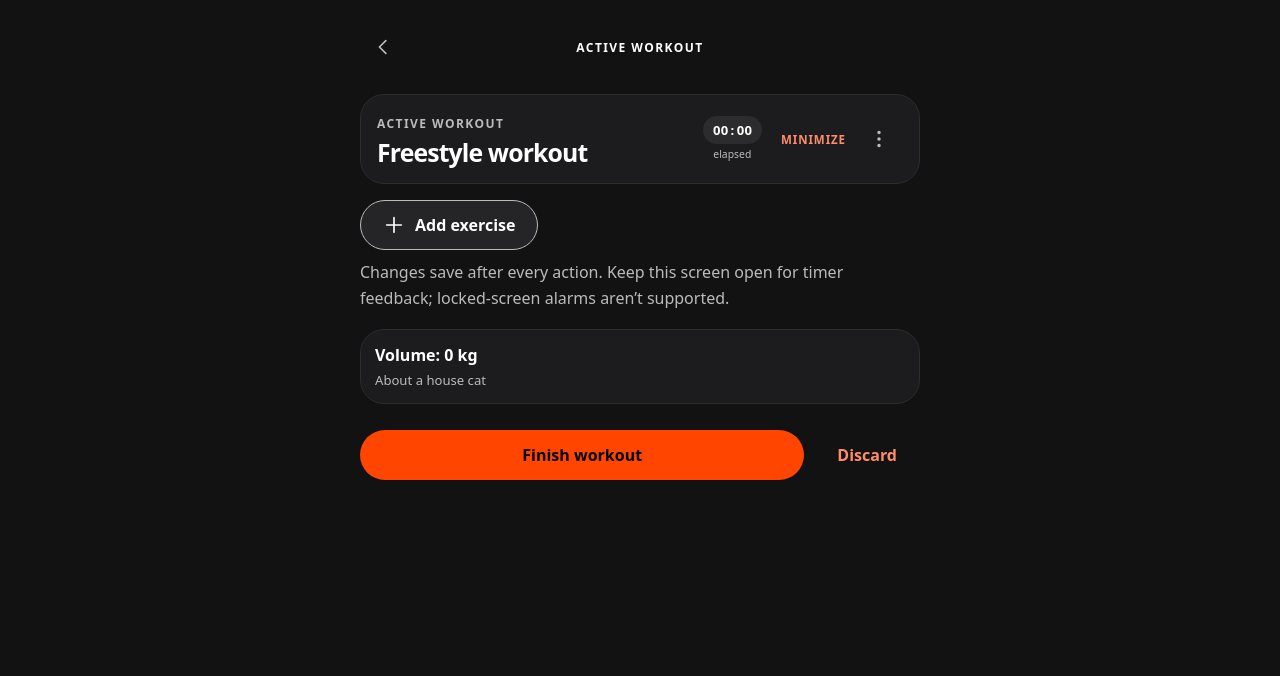
Test: creates and selects a custom exercise during an active workout
Click the button "Add exercise" at (449, 225), box [360,200,538,250]
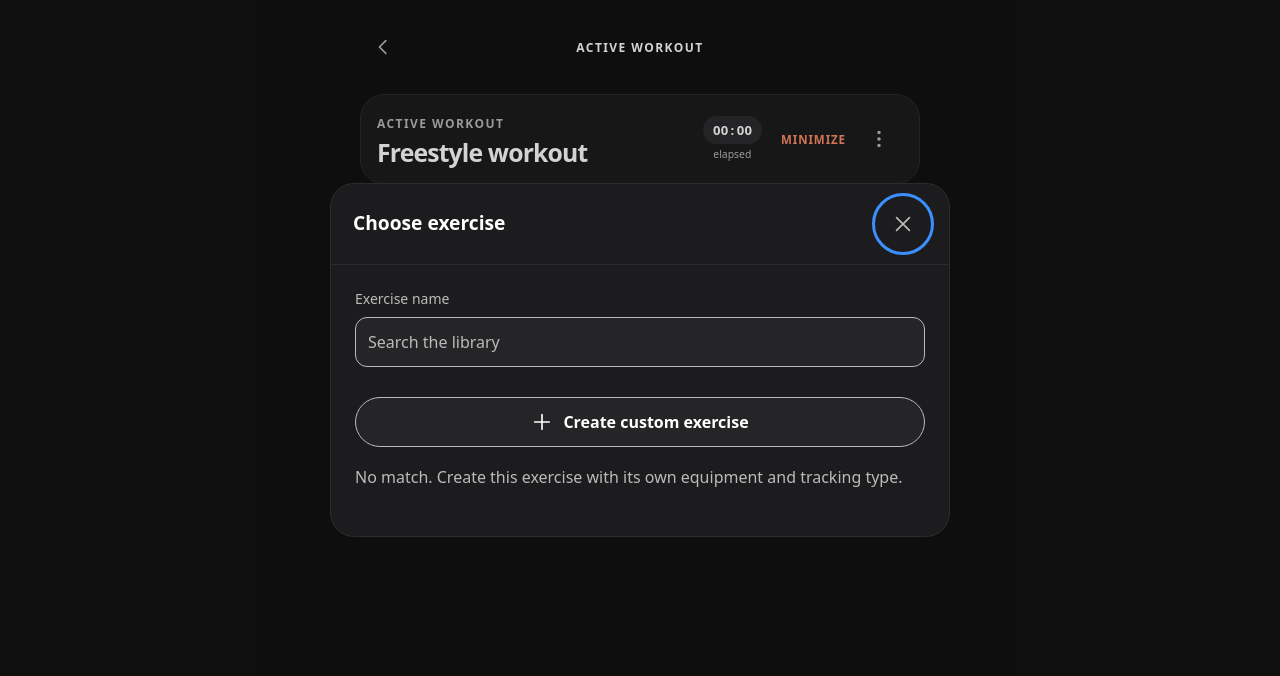
Click the button "Create custom exercise" at (640, 422), box [355,397,925,447]
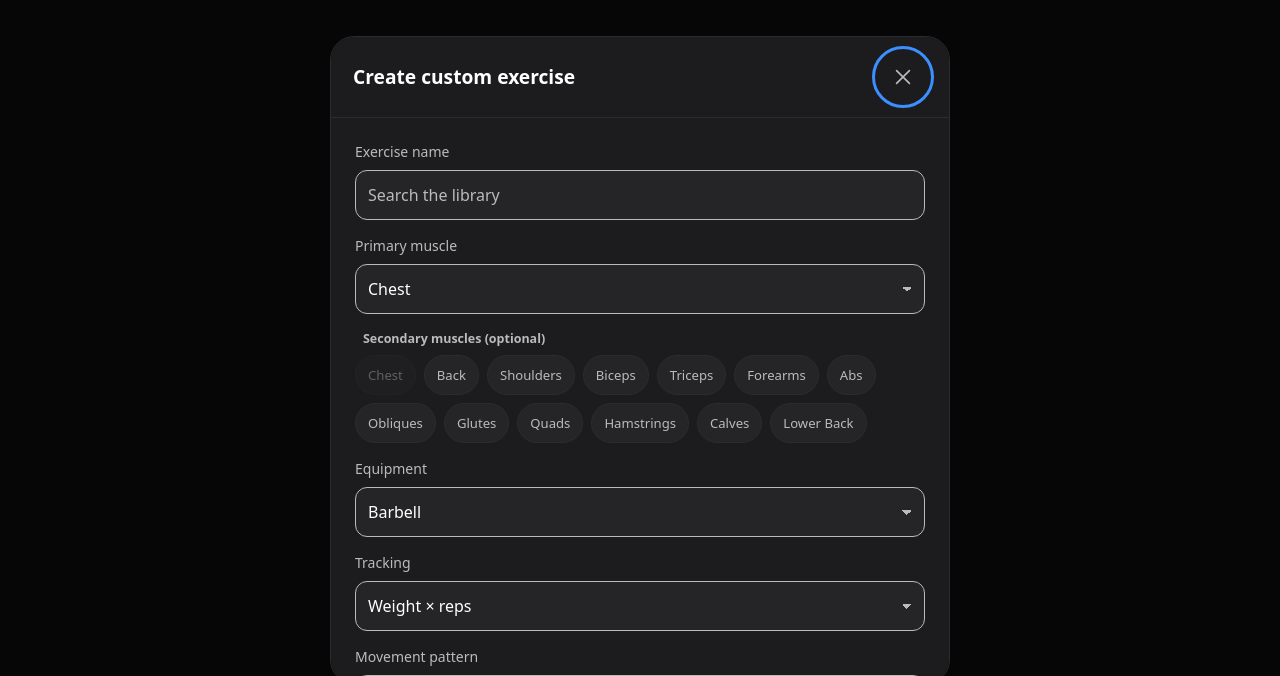
Type "QA Custom Cable Press" into the field labelled "Exercise name" at (640, 195), box [355,170,925,220]
(page scrolled)
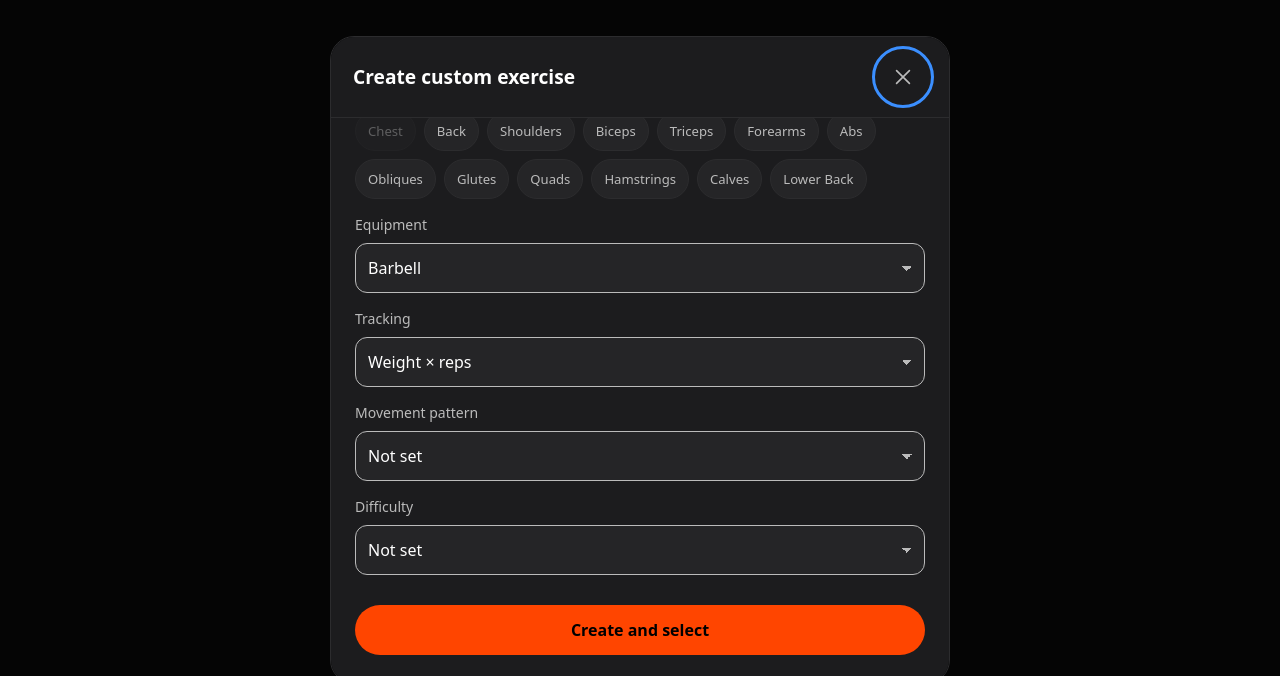
Click the button "Create and select" at (640, 630), box [355,605,925,655]
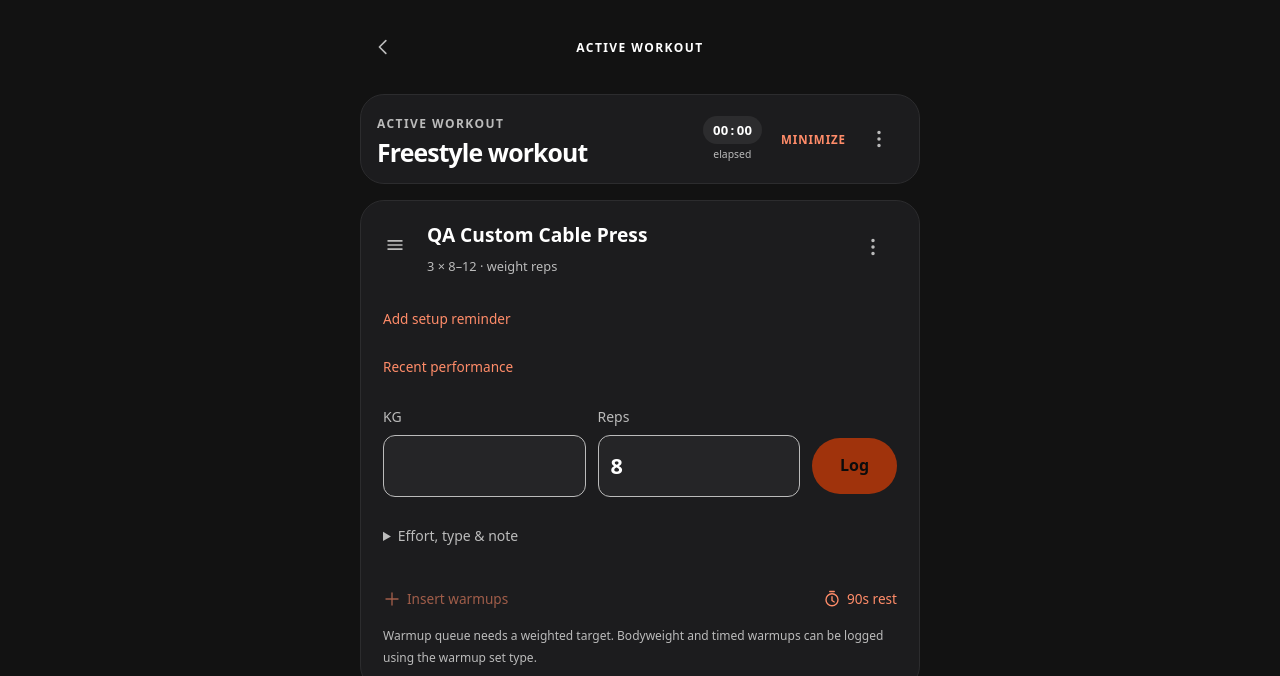
Result: the heading "QA Custom Cable Press" is shown at [427,221,648,248]
